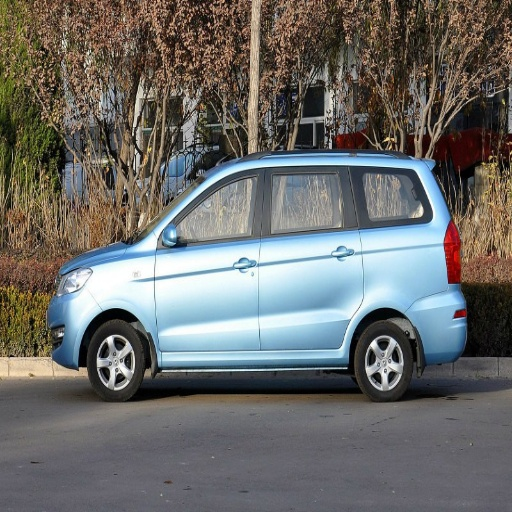back_left_door: (262, 164, 364, 350)
front_left_door: (155, 165, 265, 353)
